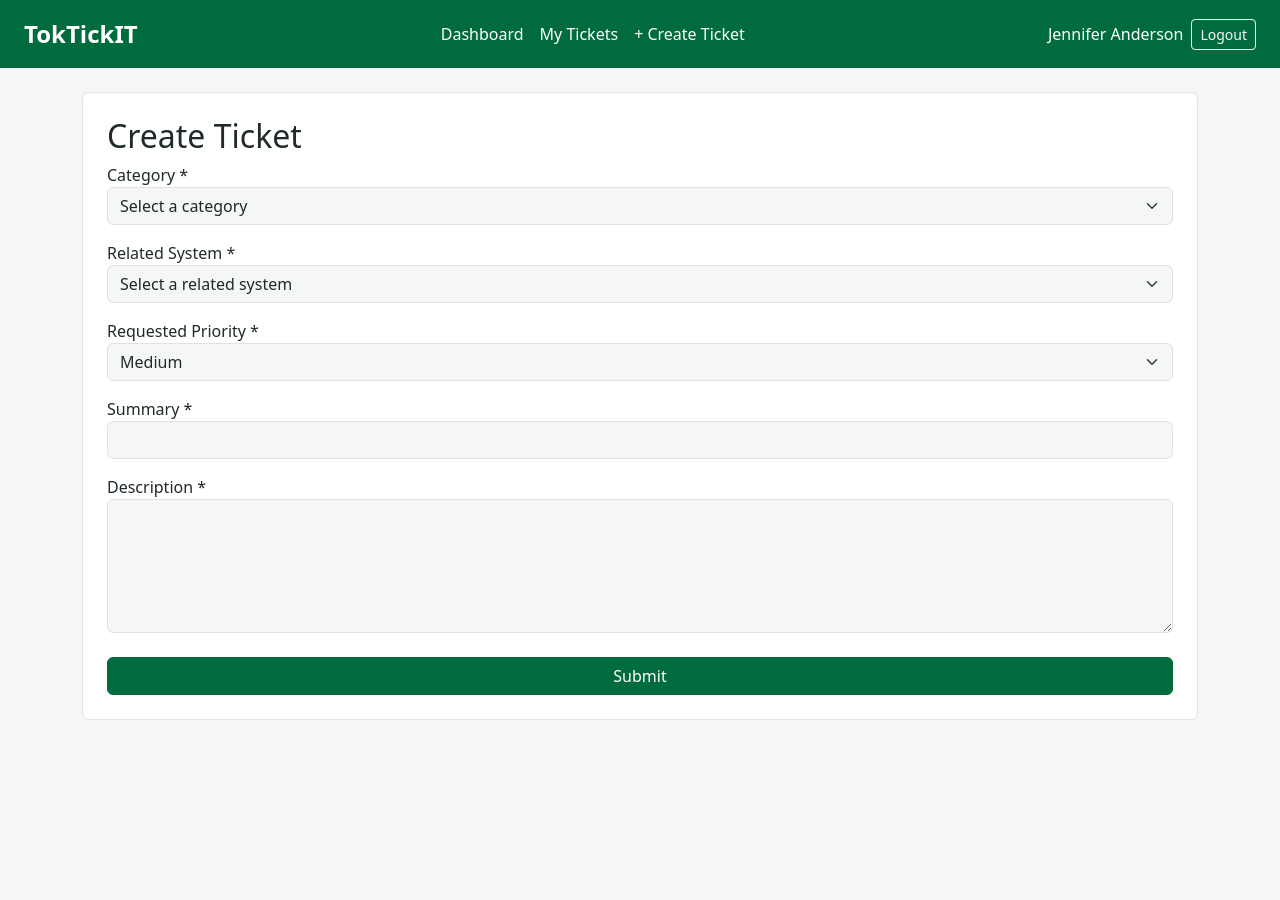
CreateTicket › shows success state with the returned Ticket Number (UI-04)
Step 1. Select "Hardware" in the dropdown labelled "Category *" → [640, 206], box [107,187,1173,225]
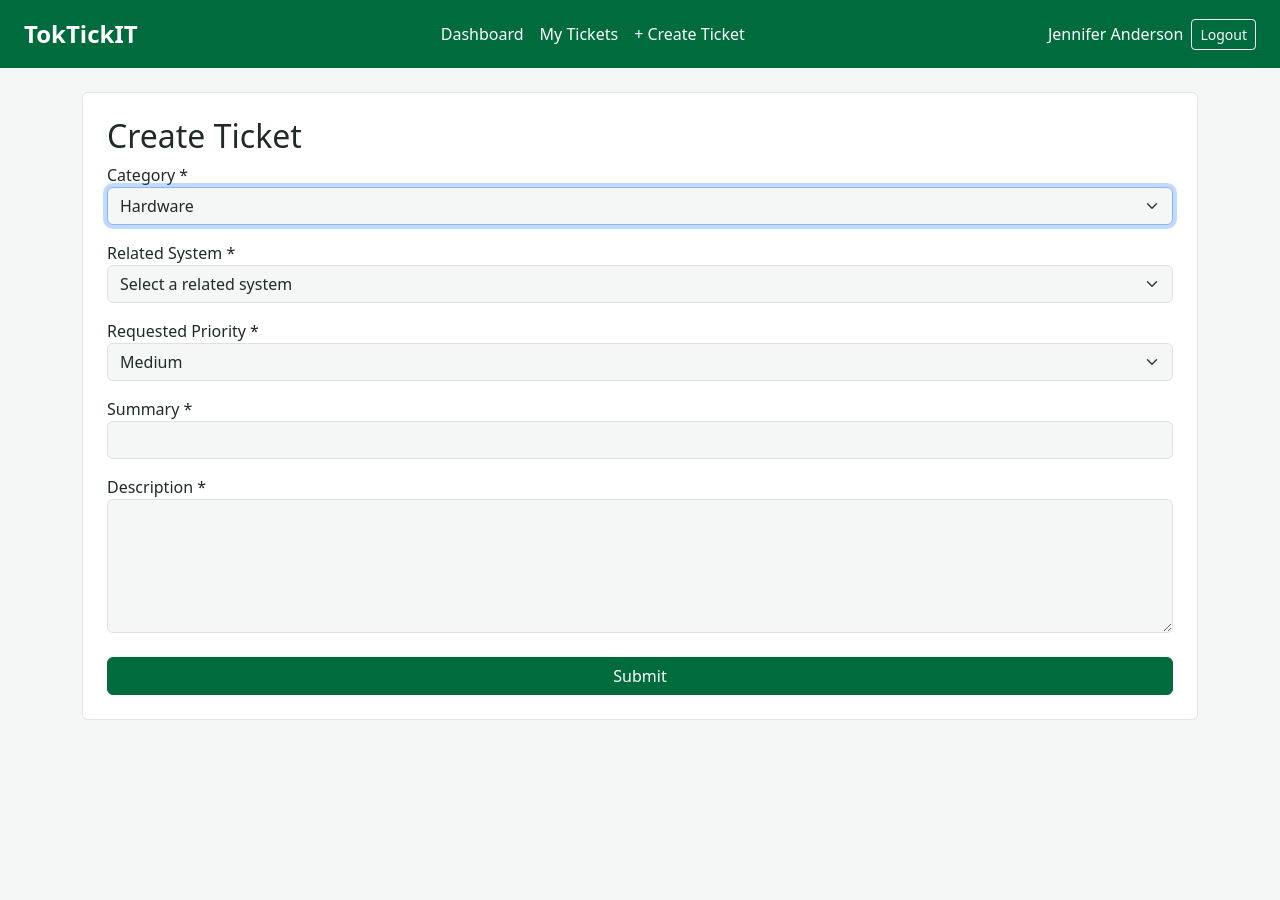
Step 2. Select "Corporate Laptop" in the dropdown labelled "Related System *" → [640, 284], box [107,265,1173,303]
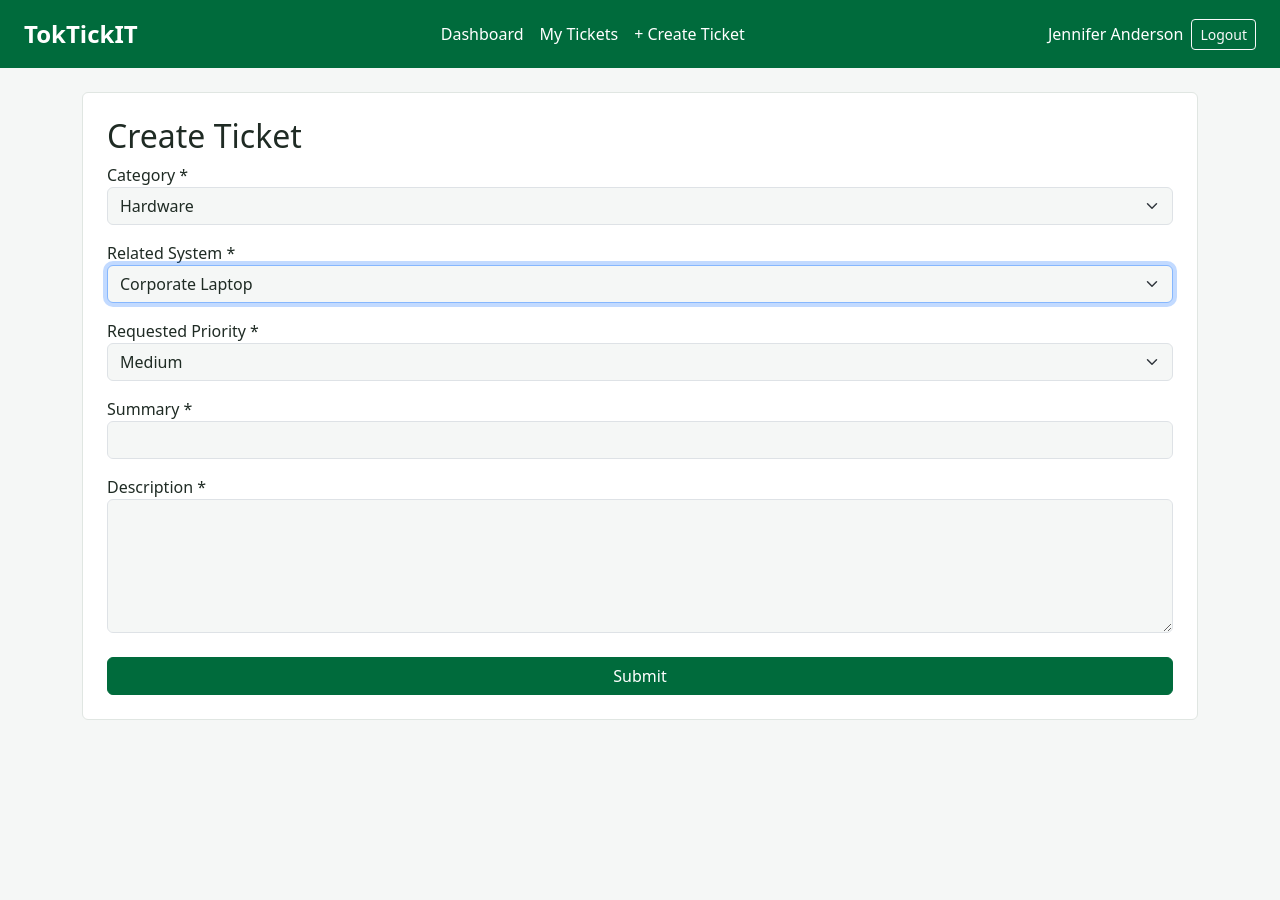
Step 3. Type "Laptop battery drains quickly" into the field labelled "Summary *" → [640, 440], box [107,421,1173,459]
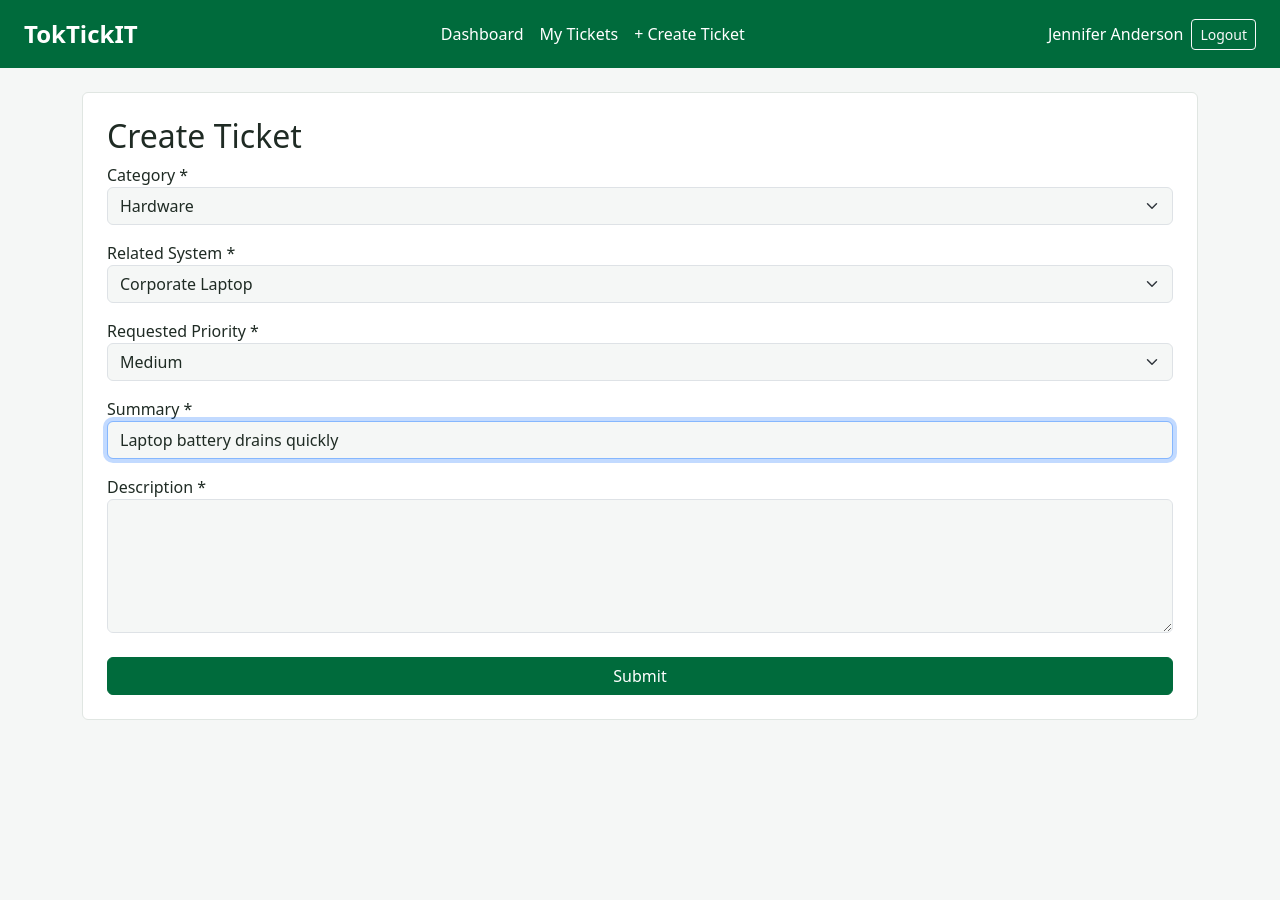
Step 4. Type "Battery drains fast even when idle." into the text box labelled "Description *" → [640, 566], box [107,499,1173,633]
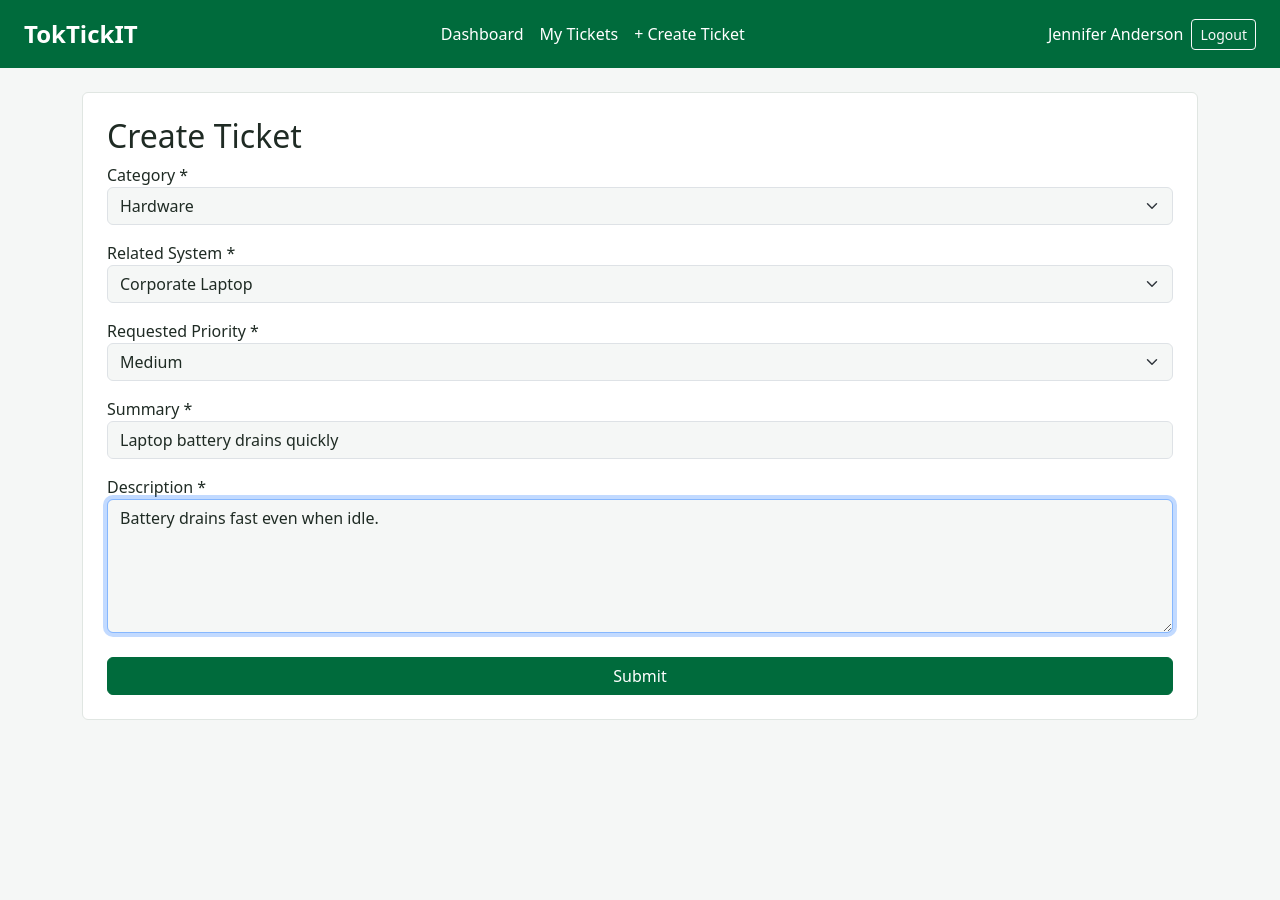
Step 5. Click the button "Submit" → [640, 676], box [107,657,1173,695]
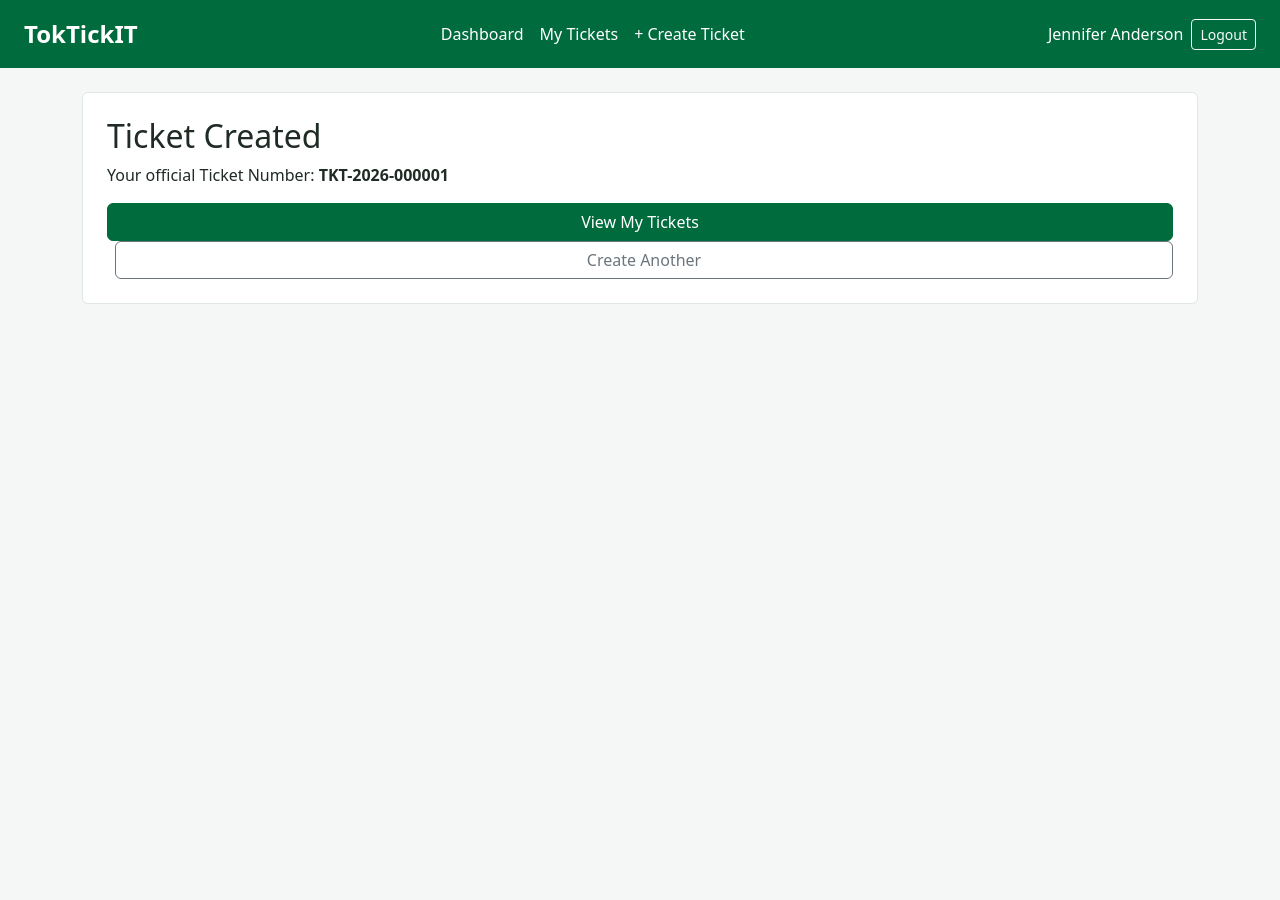
Check: the text "TKT-2026-000001" is shown, box [319,164,449,186]
